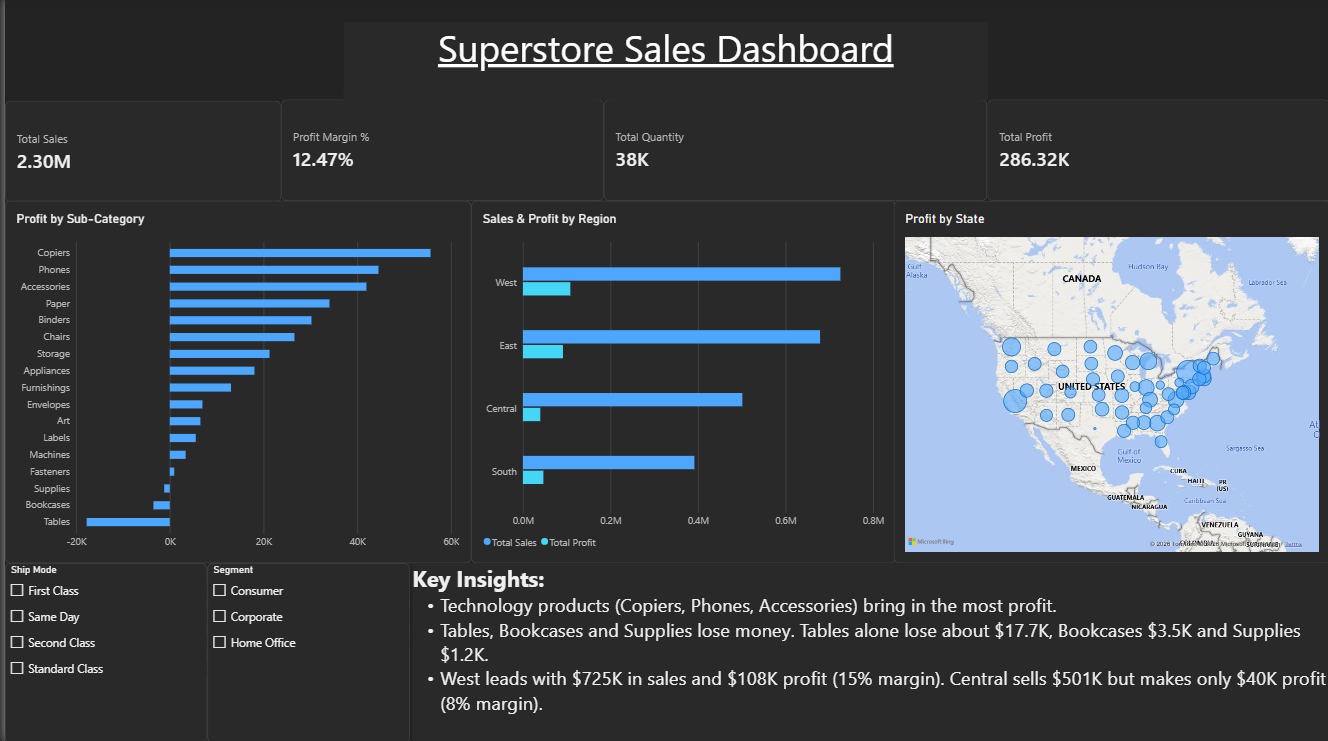

Layout of this report page (visuals, bound fields, positions):
{"tool":"powerbi","page":{"name":"Page 1","canvas":[1920,1080],"ordinal":0},"visuals":[{"type":"cardVisual","fields":{"Data":["SampleSuperstore Project.Total Sales"]},"box":[0,150,400,147.5],"z":0},{"type":"cardVisual","fields":{"Data":["SampleSuperstore Project.Total Profit"]},"box":[1422.5,147.5,497.5,147.5],"z":1000},{"type":"cardVisual","fields":{"Data":["SampleSuperstore Project.Total Quantity"]},"box":[867.5,147.5,555,147.5],"z":2000},{"type":"clusteredBarChart","title":"Profit by Sub-Category","fields":{"Category":["SampleSuperstore Project.Sub-Category","SampleSuperstore Project.Category"],"Y":["SampleSuperstore Project.Total Profit"]},"box":[0,295,675,525],"z":3000},{"type":"cardVisual","fields":{"Data":["SampleSuperstore Project.Profit Margin %"]},"box":[400,147.5,467.5,147.5],"z":4000},{"type":"clusteredBarChart","title":"Sales & Profit by Region","fields":{"Category":["SampleSuperstore Project.Region"],"Y":["SampleSuperstore Project.Total Sales","SampleSuperstore Project.Total Profit"]},"box":[675,295,615,525],"z":5000},{"type":"map","title":"Profit by State","fields":{"Category":["SampleSuperstore Project.State"],"Size":["SampleSuperstore Project.Total Profit"]},"box":[1286.7,295,633.4,524.8],"z":6000},{"type":"textbox","box":[490,36,932.5,112.5],"z":6002},{"type":"slicer","fields":{"Values":["SampleSuperstore Project.Segment"]},"box":[292.5,820,292.5,260],"z":6003},{"type":"slicer","fields":{"Values":["SampleSuperstore Project.Ship Mode"]},"box":[0,820,292.5,260],"z":6004},{"type":"textbox","box":[590,820,1330,260],"z":6005}]}

Visuals, with their boxes in screenshot pixels (x1, y1, x2, y2), scaled from the page's 1920x1080 canvas onto the 1328x741 screenshot:
cardVisual - SampleSuperstore Project.Total Sales: bbox=(0, 103, 277, 204)
cardVisual - SampleSuperstore Project.Total Profit: bbox=(984, 101, 1327, 202)
cardVisual - SampleSuperstore Project.Total Quantity: bbox=(600, 101, 984, 202)
"Profit by Sub-Category" clusteredBarChart: bbox=(0, 202, 467, 563)
cardVisual - SampleSuperstore Project.Profit Margin %: bbox=(277, 101, 600, 202)
"Sales & Profit by Region" clusteredBarChart: bbox=(467, 202, 892, 563)
"Profit by State" map: bbox=(890, 202, 1327, 562)
textbox: bbox=(339, 25, 984, 102)
slicer - SampleSuperstore Project.Segment: bbox=(202, 563, 405, 740)
slicer - SampleSuperstore Project.Ship Mode: bbox=(0, 563, 202, 740)
textbox: bbox=(408, 563, 1327, 740)
